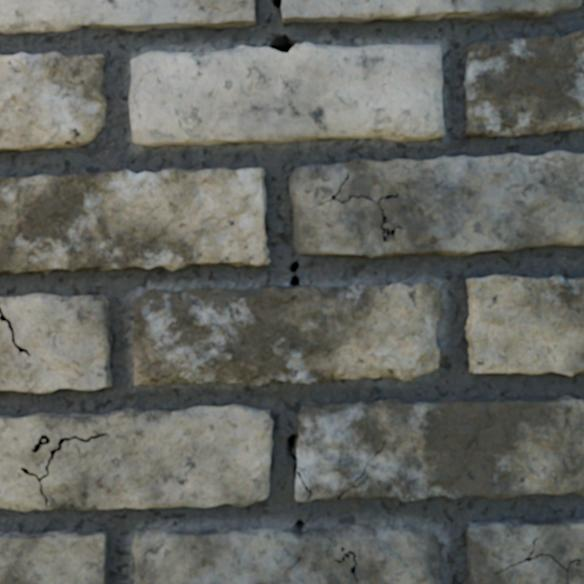brick: (290, 151, 583, 257), (297, 396, 583, 500), (0, 405, 272, 510), (0, 168, 269, 273), (465, 30, 583, 136), (466, 275, 583, 375), (0, 294, 111, 392), (0, 52, 105, 150), (0, 0, 254, 33), (466, 519, 583, 583), (282, 0, 581, 21), (0, 531, 108, 583), (295, 477, 308, 500)
broken_brick: (128, 42, 445, 146), (132, 281, 442, 385), (131, 522, 443, 583)
crack: (19, 432, 108, 508), (493, 536, 581, 583), (337, 441, 385, 499), (0, 307, 31, 357), (333, 543, 358, 583), (294, 464, 312, 508), (269, 34, 296, 53), (288, 260, 300, 287), (286, 434, 298, 459), (293, 519, 305, 539), (270, 0, 282, 9), (284, 22, 290, 26), (290, 147, 294, 152)
